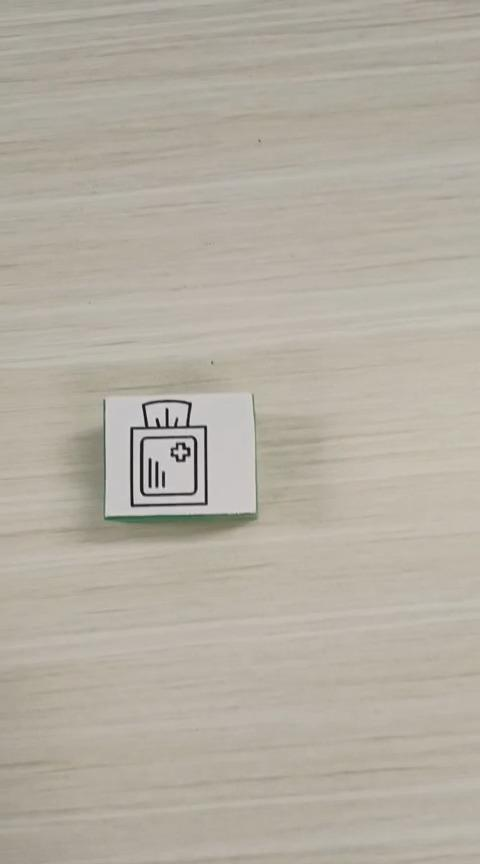Gauze: (101, 390, 258, 522)
